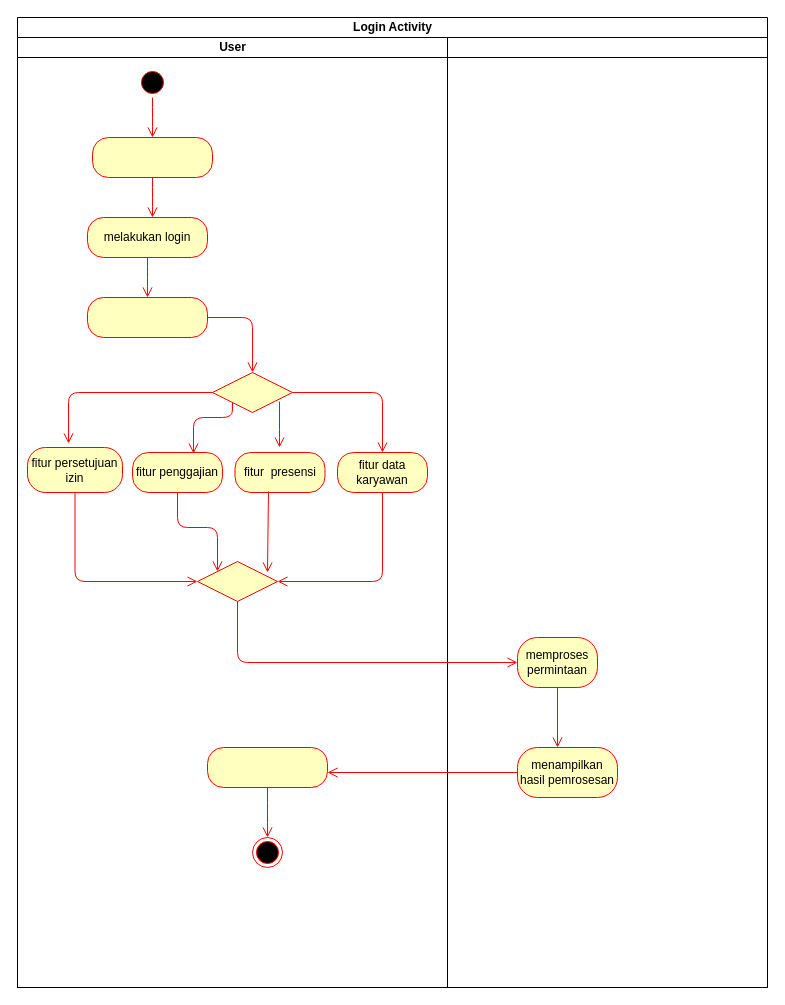
Some shapes in this 785 by 1005 pixel diagram are drawn without their labels. The box of each missing label's shape, as (x1, y1, x2, y2) in pixels:
melihat hasil pemrosesan: (206, 746, 328, 788)
memilih fitur: (86, 296, 208, 338)
mengakses website: (92, 136, 212, 178)
Sistem: (446, 36, 768, 988)
